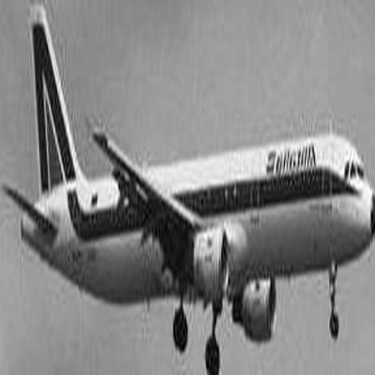airplane: (6, 6, 369, 372)
